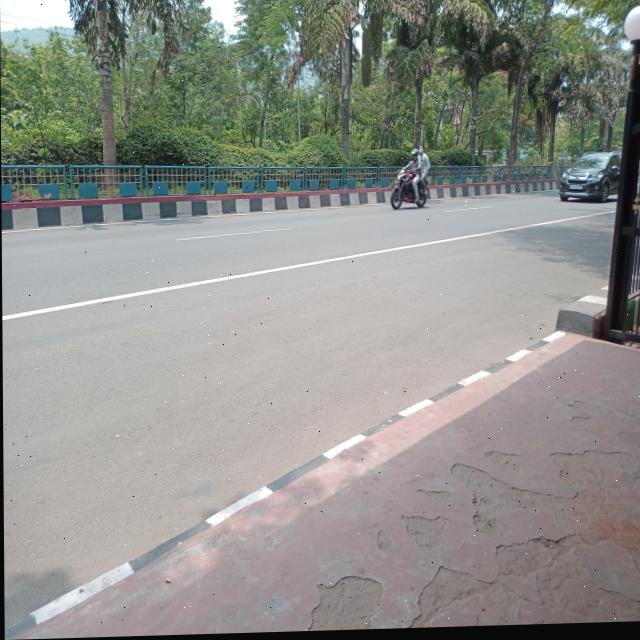bike: (390, 168, 431, 210)
car: (560, 150, 618, 215)
